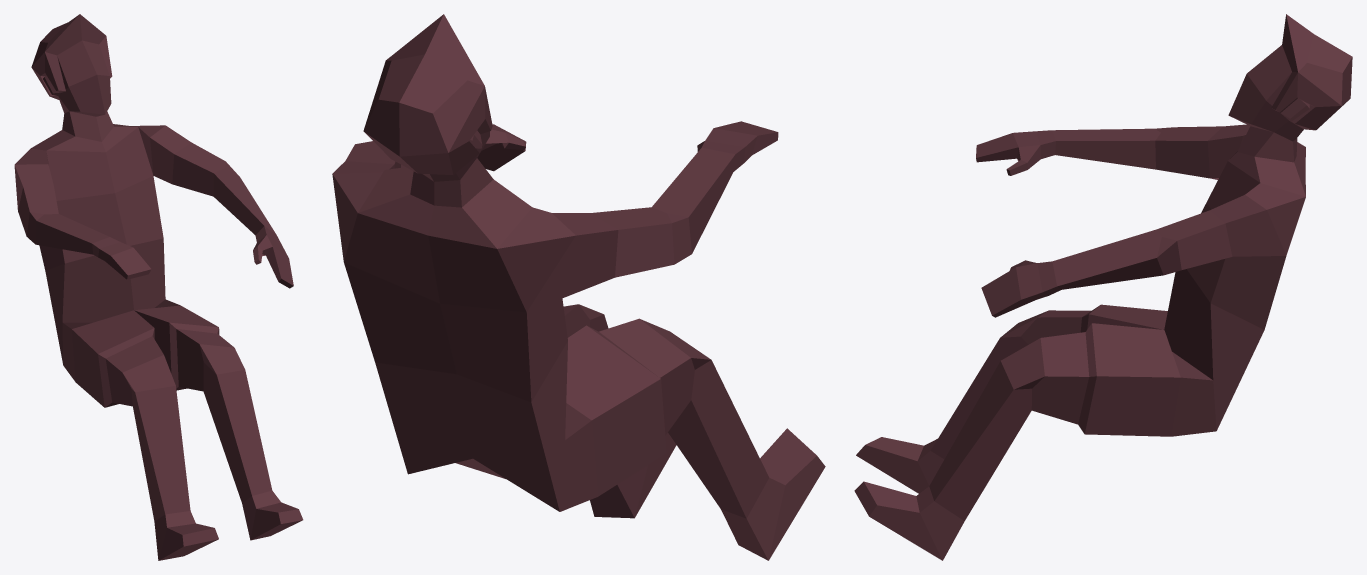
The model's file is man-codriver.fbx.
3 renders of one model, left to right at view 1: azimuth 30°, elevation 25°; view 2: azimuth 150°, elevation 25°; view 3: azimuth 270°, elevation 25°, orthographic. The views are drawn at different scales.
Visible parts, largest first — view 1: man-casual_Rig; view 2: man-casual_Rig; view 3: man-casual_Rig.
Boxes of the visible parts, x1,y1,x2,y2 form: man-casual_Rig: (14,14,303,560); man-casual_Rig: (332,14,825,560); man-casual_Rig: (854,14,1352,560).
Size of the model in its own units: 0.7016 by 1.4 by 1.22.
